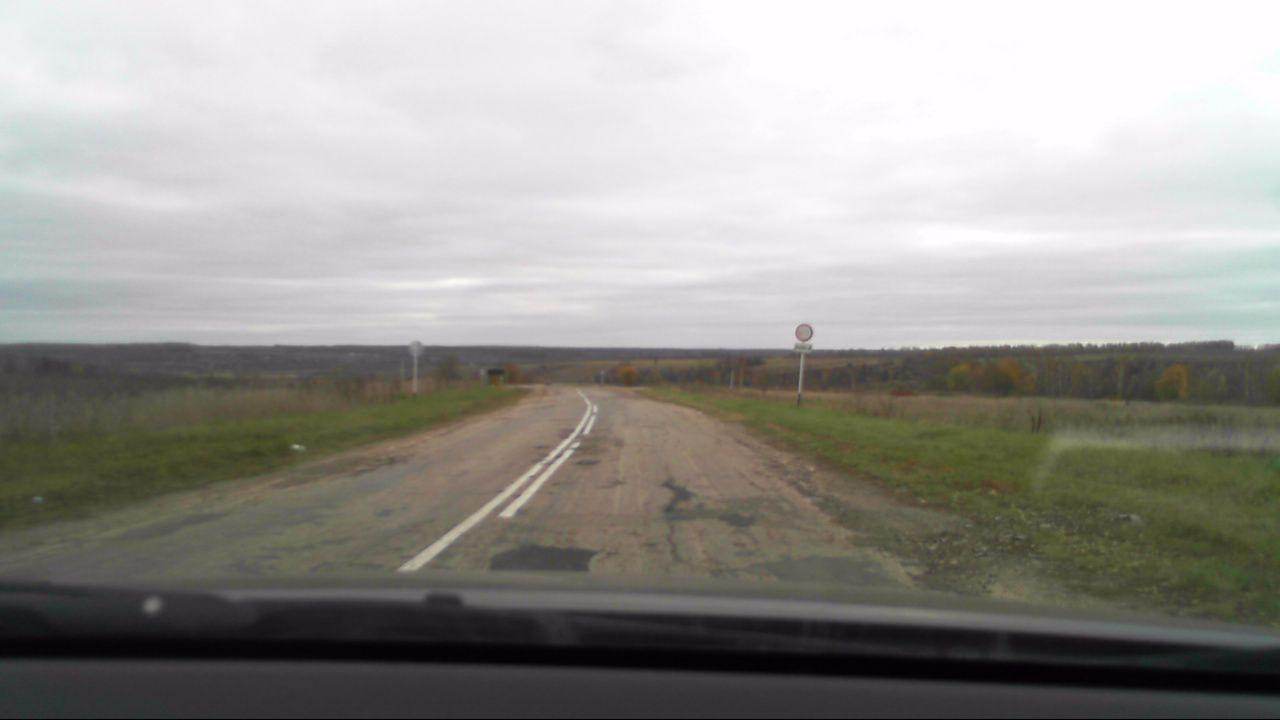3_2: (793, 322, 815, 340)
